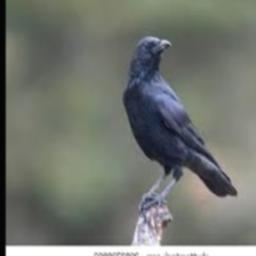Crow: (122, 35, 239, 202)
